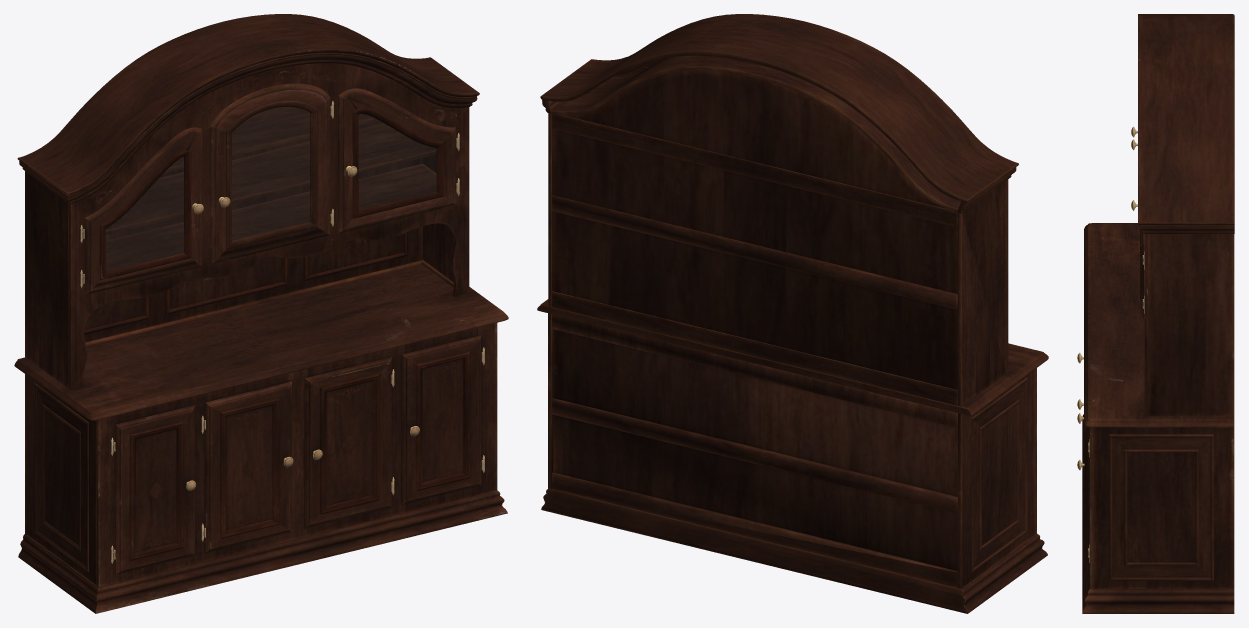
Rendered from wardrobe-hutch.glb.
3 views of the same model, side by side, from view 1: azimuth 30°, elevation 25°; view 2: azimuth 150°, elevation 25°; view 3: azimuth 270°, elevation 25° (orthographic). The views are drawn at different scales.
Visible parts, largest first — view 1: wardrobe-hutch; view 2: wardrobe-hutch; view 3: wardrobe-hutch.
Boxes of the visible parts, bbox=[...] form: wardrobe-hutch: bbox=[14, 14, 508, 613]; wardrobe-hutch: bbox=[537, 14, 1048, 613]; wardrobe-hutch: bbox=[1077, 14, 1234, 613].
Bounding box in the file's own units: 2.02 × 2.23 × 0.6698.
Materials: 3 (2 with a texture image).
